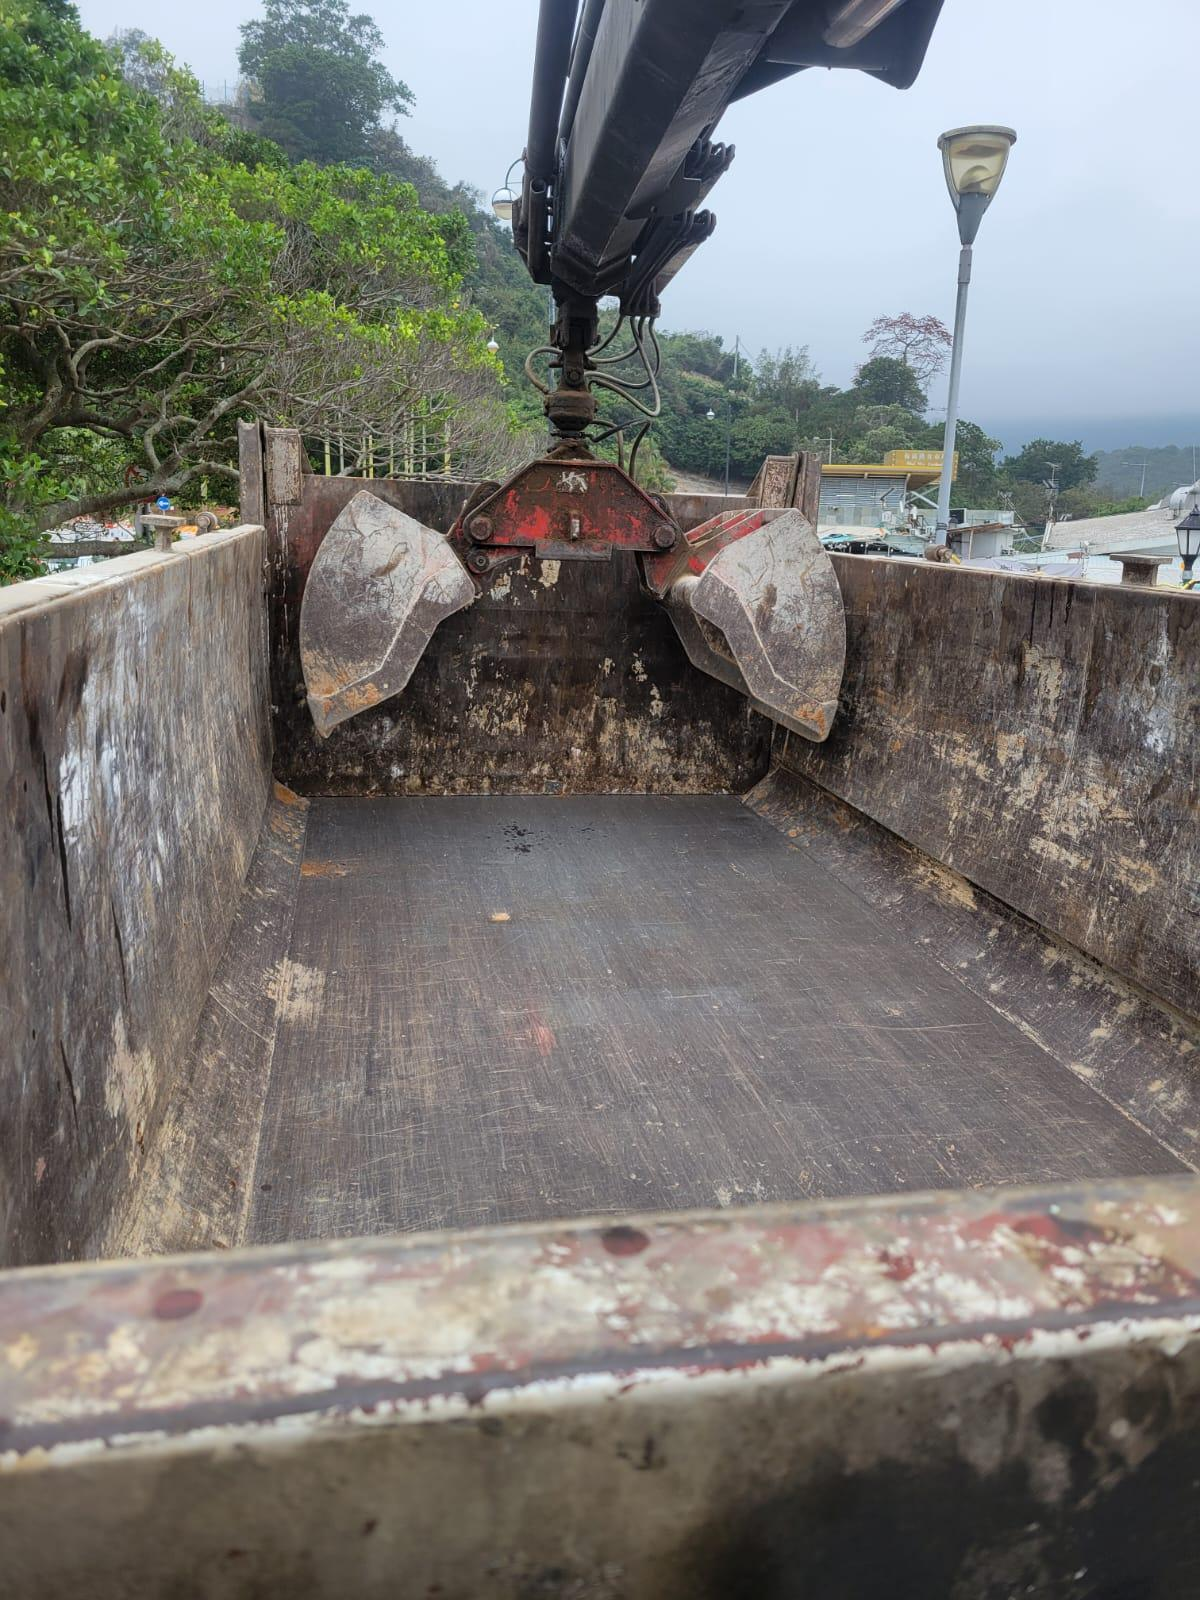nothing: (250, 772, 1195, 1247)
